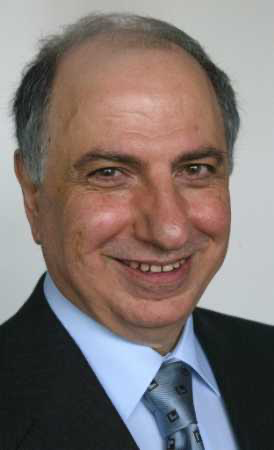Face: (43, 113, 236, 341)
